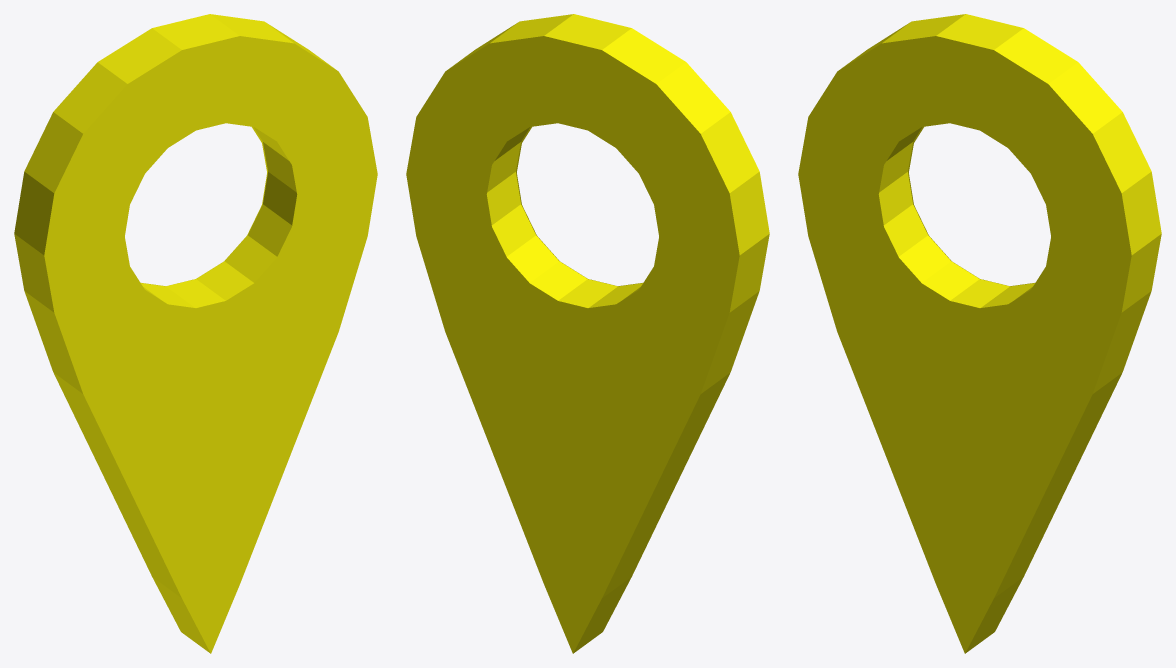
The model's file is marker.obj.
3 renders of one model, left to right at view 1: azimuth 30°, elevation 25°; view 2: azimuth 150°, elevation 25°; view 3: azimuth 330°, elevation 25°, orthographic.
Visible parts, largest first — view 1: Mesh1 Cylinder00_1 skpA75F1 Model; view 2: Mesh1 Cylinder00_1 skpA75F1 Model; view 3: Mesh1 Cylinder00_1 skpA75F1 Model.
Part boxes in pixels (x1,y1,x2,y2): Mesh1 Cylinder00_1 skpA75F1 Model: (14, 14, 377, 653); Mesh1 Cylinder00_1 skpA75F1 Model: (406, 14, 769, 653); Mesh1 Cylinder00_1 skpA75F1 Model: (798, 14, 1161, 653).
Bounding box in the file's own units: 365 × 639 × 56.97.
